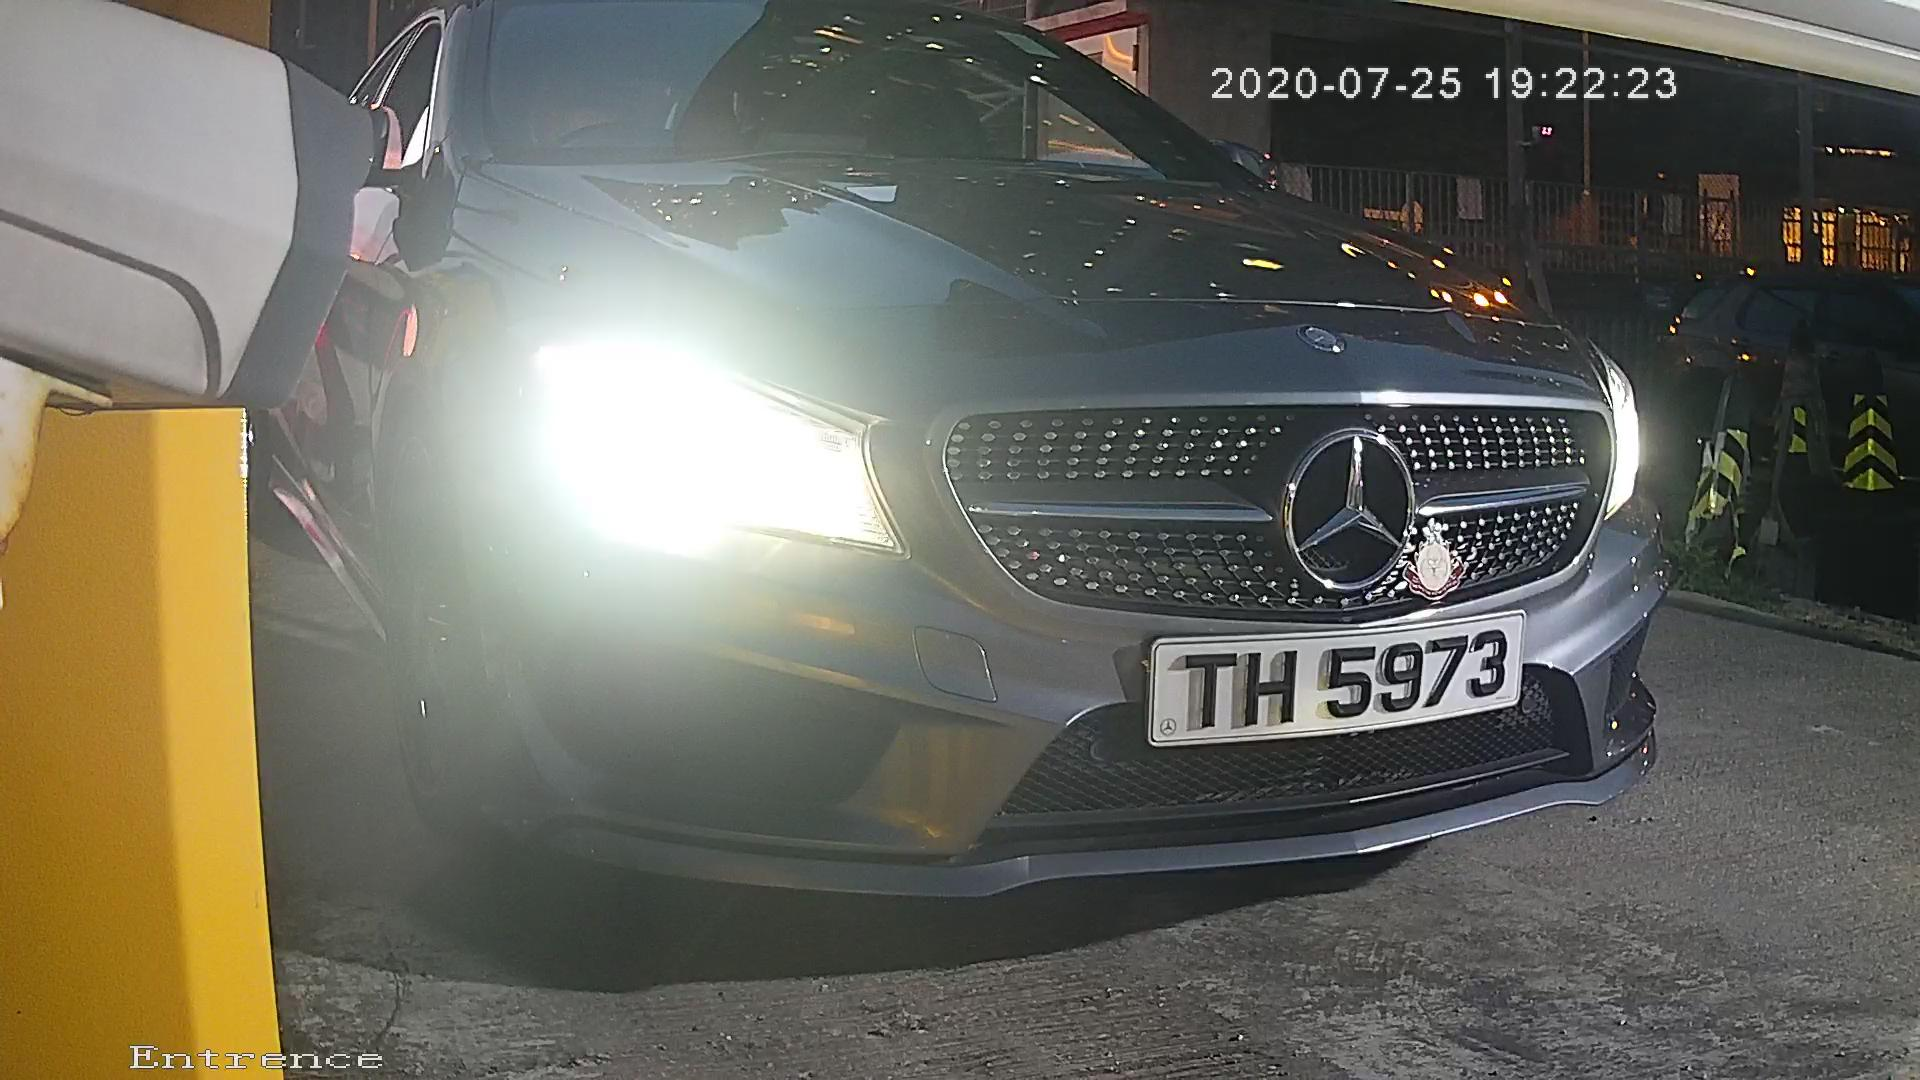Car: (95, 10, 1766, 965)
License Plate: (1132, 603, 1560, 762)
